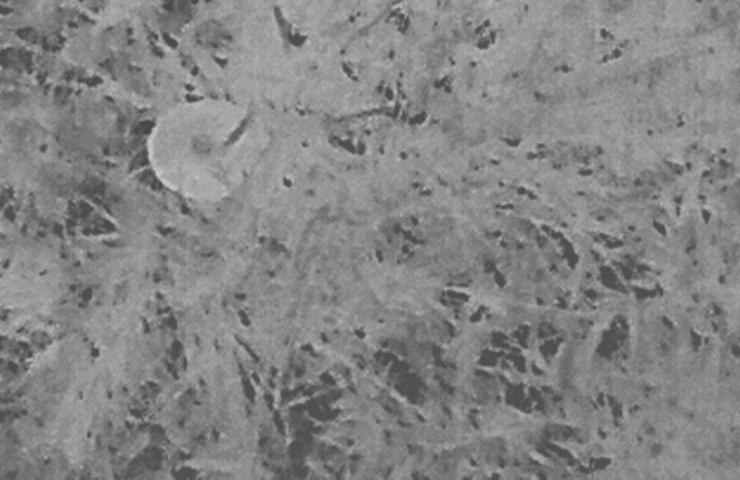landmines: (142, 88, 267, 206)
